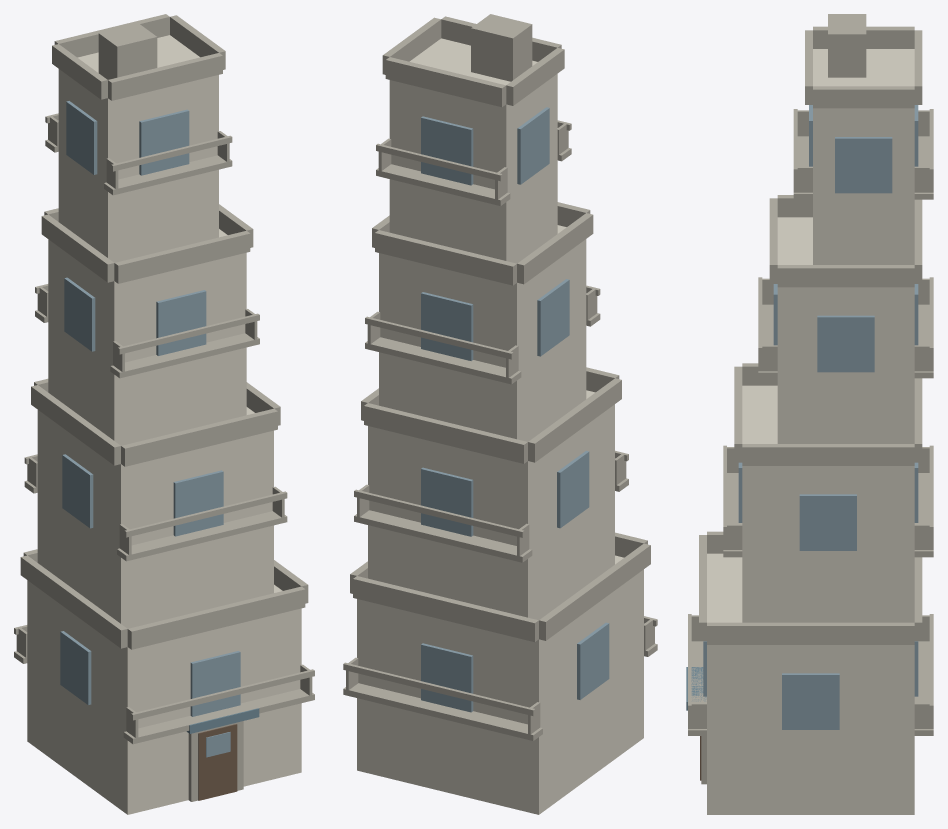
File: residential_1x1_terraces.glb
3 views of the same model, side by side, from view 1: azimuth 30°, elevation 25°; view 2: azimuth 150°, elevation 25°; view 3: azimuth 270°, elevation 25° (orthographic). The views are drawn at different scales.
Parts seen in each view (by area): view 1: residential_1x1_terraces_0; view 2: residential_1x1_terraces_0; view 3: residential_1x1_terraces_0.
Part boxes in pixels (box(x1,y1,x2,y2)): residential_1x1_terraces_0: box(14, 14, 314, 814); residential_1x1_terraces_0: box(343, 14, 657, 814); residential_1x1_terraces_0: box(686, 14, 933, 814).
Size of the model in its own units: 7 by 25.5 by 7.75.
